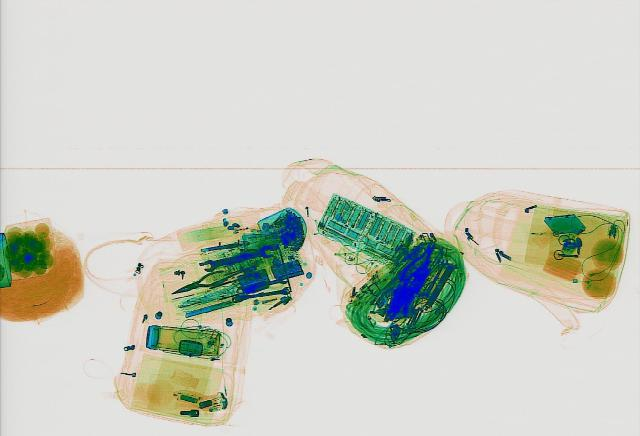Pliers: (394, 236, 446, 283), (166, 268, 232, 298)
Wrench: (197, 242, 279, 271), (234, 273, 290, 292), (230, 285, 292, 300)
